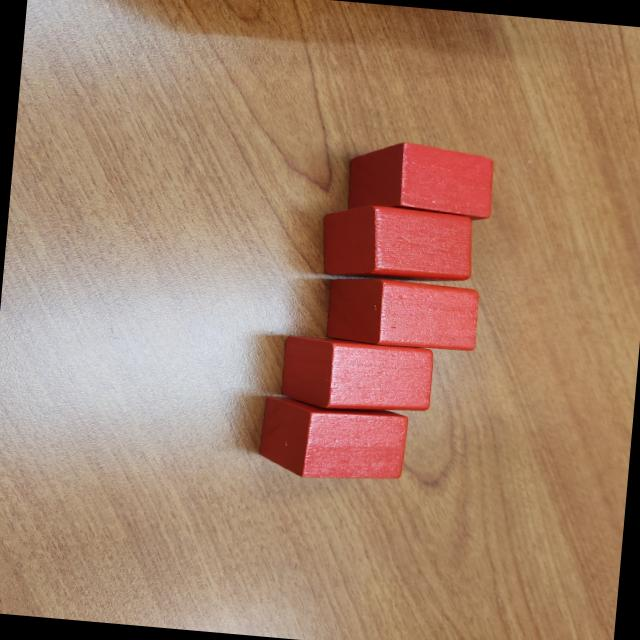red: (317, 200, 478, 288), (339, 134, 499, 222), (254, 396, 408, 486), (280, 334, 435, 418), (326, 273, 483, 354)
